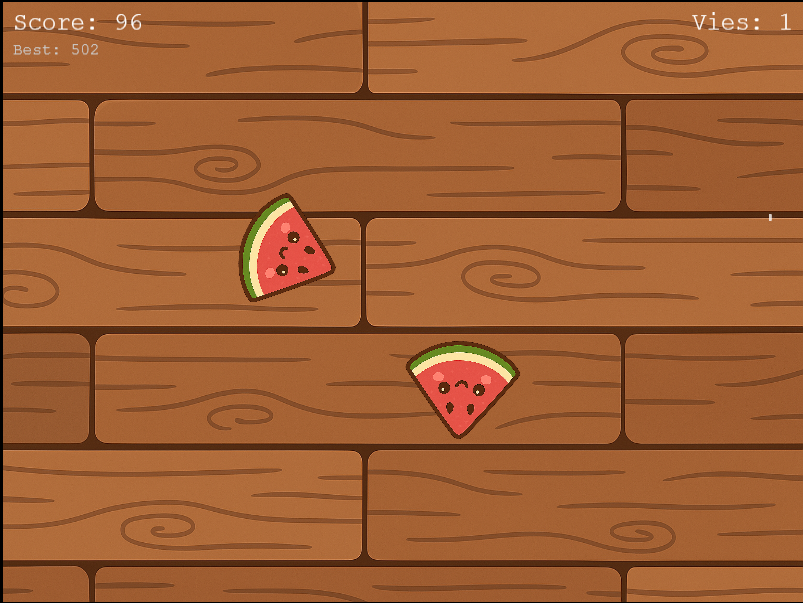fruit: (398, 331, 527, 442), (229, 189, 345, 310)
